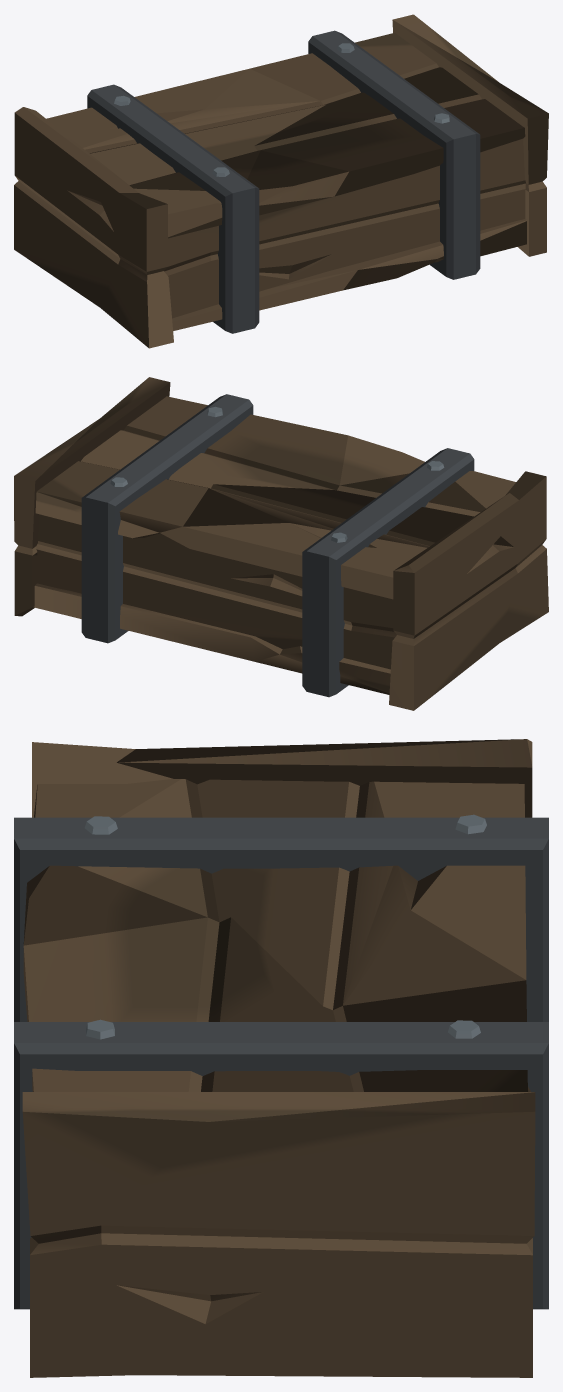
File: crypt_crate.gltf
The picture shows the model from 3 angles, top to bottom: view 1: azimuth 30°, elevation 25°; view 2: azimuth 150°, elevation 25°; view 3: azimuth 270°, elevation 25°; orthographic projection. The views are drawn at different scales.
Parts seen in each view (by area): view 1: crypt_crate; view 2: crypt_crate; view 3: crypt_crate.
Part boxes in pixels (x1,y1,x2,y2): crypt_crate: (14, 14, 548, 348); crypt_crate: (14, 377, 548, 710); crypt_crate: (14, 739, 548, 1377).
Size of the model in its own units: 1.11 by 0.3985 by 0.6807.
1 material, 1 textured.
